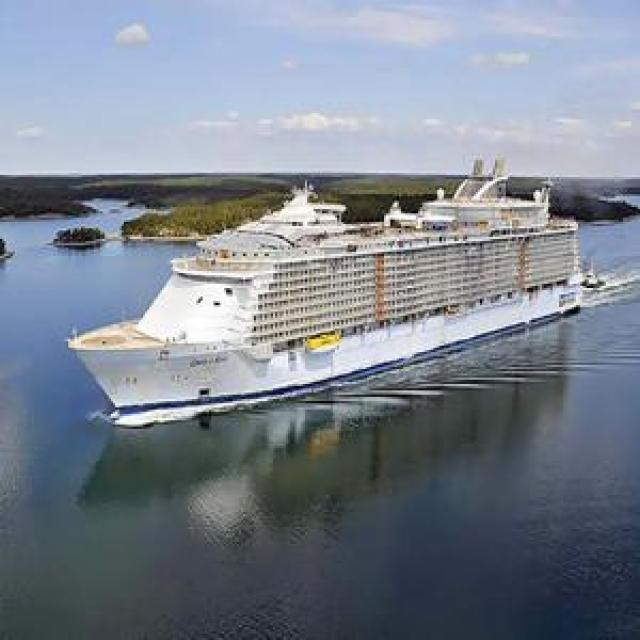passenger ship: (44, 170, 611, 415)
